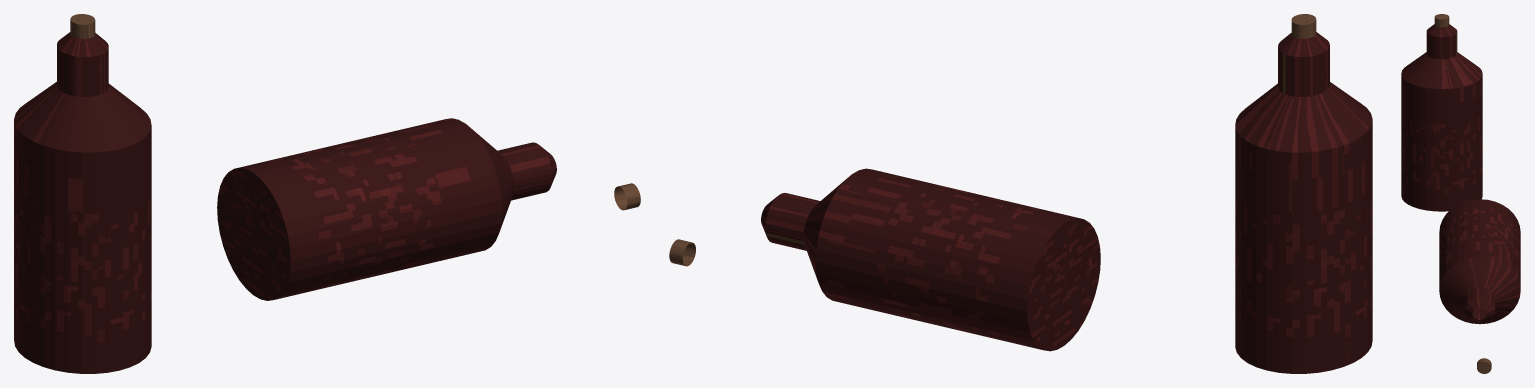
File: bottles1.glb
3 renders of one model, left to right at view 1: azimuth 30°, elevation 25°; view 2: azimuth 150°, elevation 25°; view 3: azimuth 270°, elevation 25°, orthographic. The views are drawn at different scales.
Visible parts, largest first — view 1: wine-col, winefall-col; view 2: wine-col, winefall-col; view 3: wine-col, winefall-col.
Part boxes in pixels (x1=…): wine-col: x1=14, y1=14, x2=151, y2=373; winefall-col: x1=217, y1=118, x2=640, y2=300; wine-col: x1=1235, y1=14, x2=1372, y2=373; winefall-col: x1=669, y1=168, x2=1100, y2=351; wine-col: x1=1401, y1=14, x2=1482, y2=211; winefall-col: x1=1439, y1=199, x2=1520, y2=373.
Bounding box in the file's own units: 1.24 × 0.6535 × 0.3568.
Materials: 1 (1 with a texture image).
